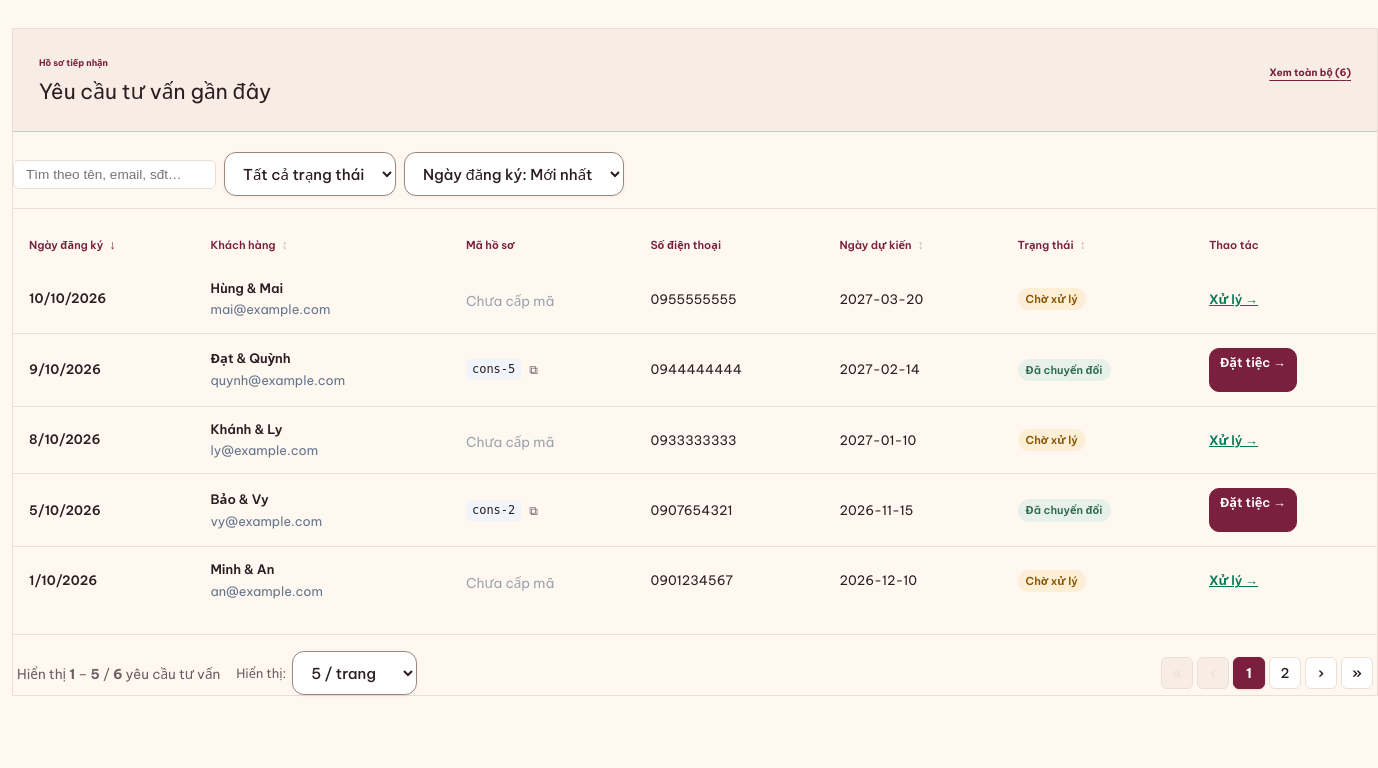
Test: DashboardConsultationsSection pagination and sorting › renders with pagination and displays correct page slice
Expected: the heading "Yêu cầu tư vấn gần đây" is shown, x1=39 y1=76 x2=271 y2=104
Expected: the text "Hiển thị 1 – 5 / 6 yêu cầu tư vấn" is shown, x1=17 y1=664 x2=220 y2=683
Note: Navigate to page 2
Click the button "2" at (1285, 673), box x1=1269 y1=657 x2=1301 y2=689
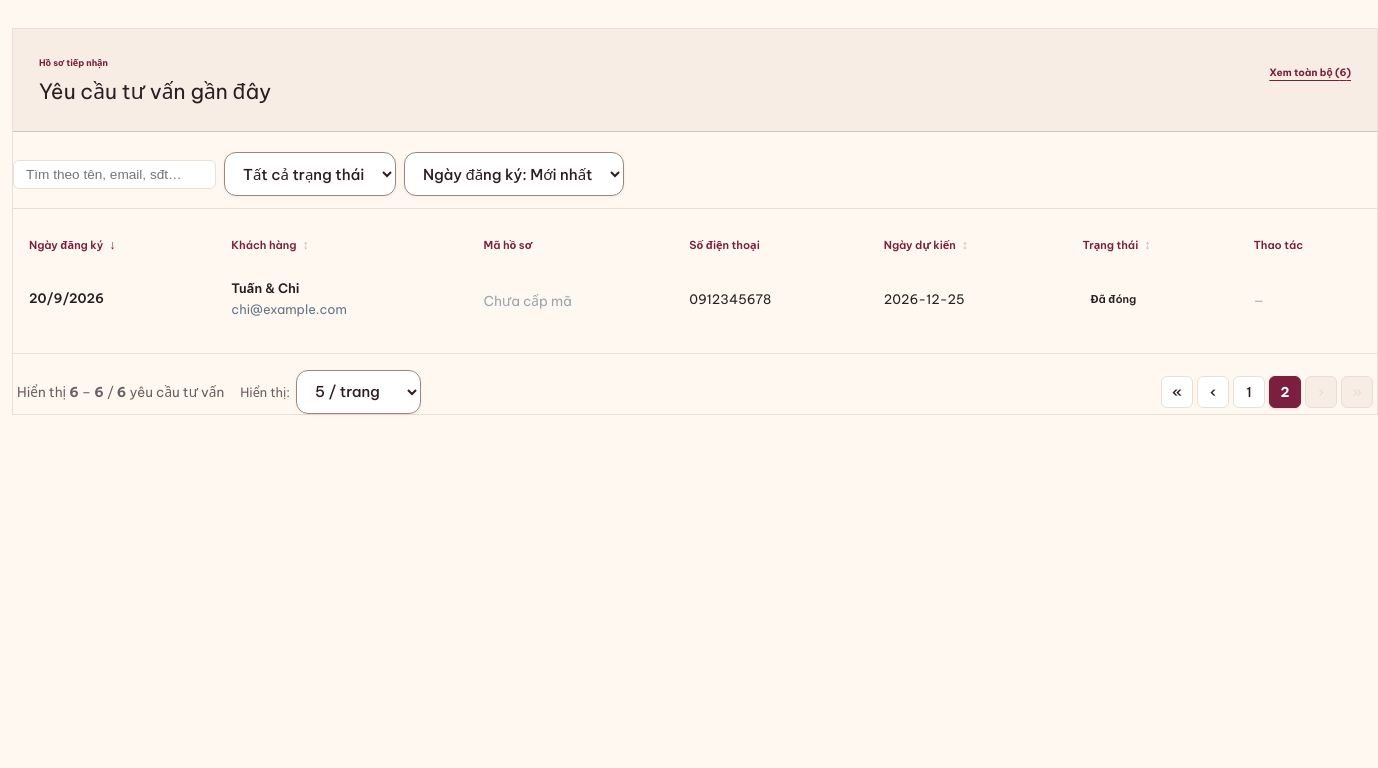
Expected: the text "Hiển thị 6 – 6 / 6 yêu cầu tư vấn" is shown, x1=17 y1=382 x2=224 y2=401
Expected: the text "Tuấn & Chi" is shown, x1=231 y1=280 x2=300 y2=296
Expected: the text "Hùng & Mai" is gone
